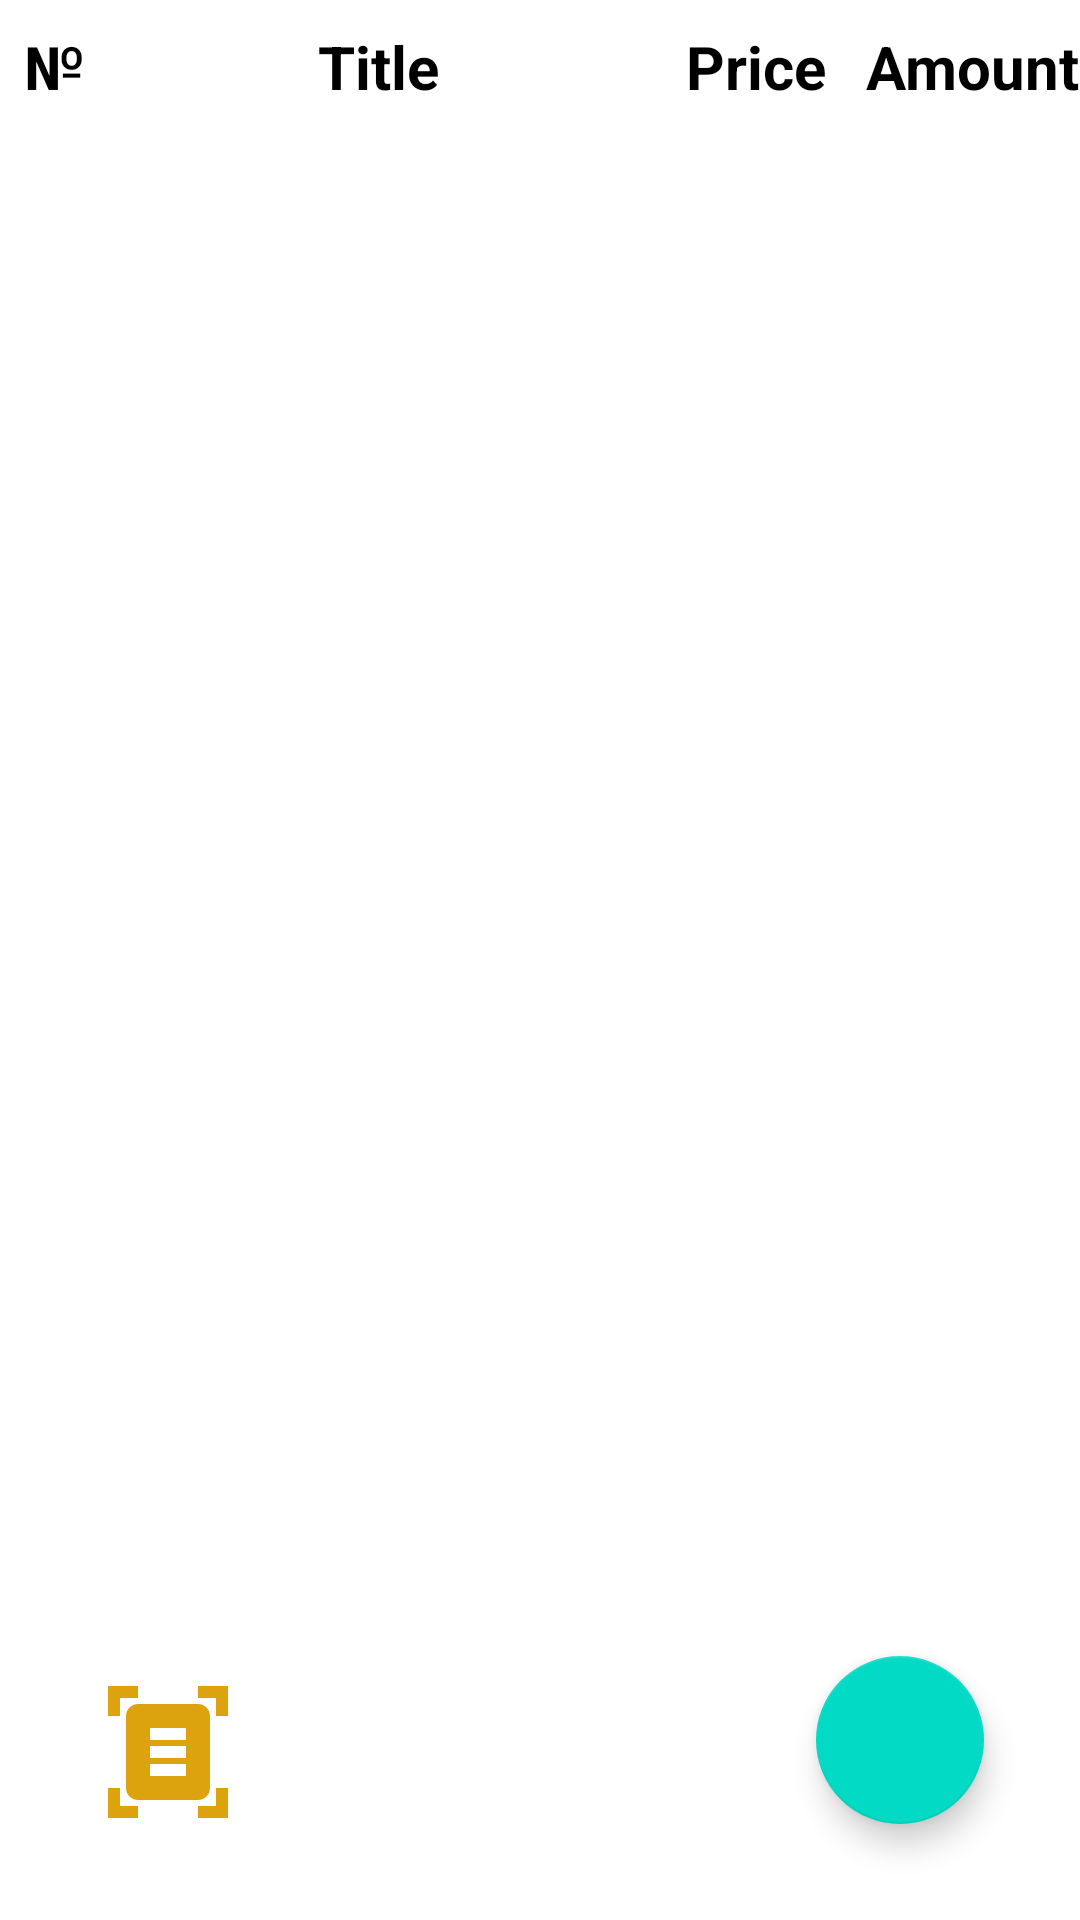

Screen size 1080px x 1920px. Icon name, then its box in pixels as (x1, y1, x2, y2):
document scanner: (108, 1686, 228, 1818)
